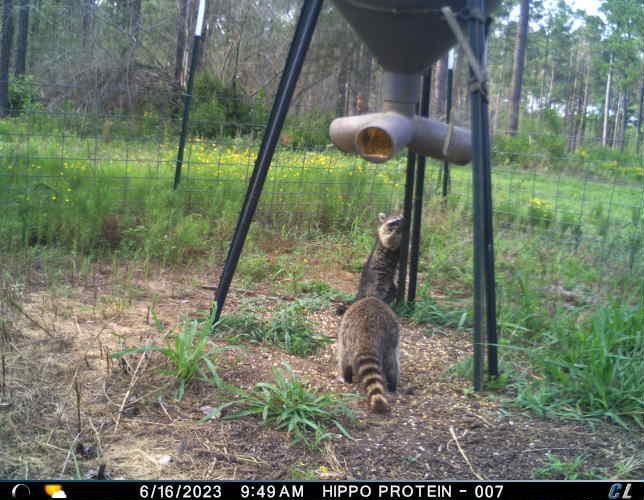Raccoon: (334, 292, 406, 411), (336, 204, 408, 313)
